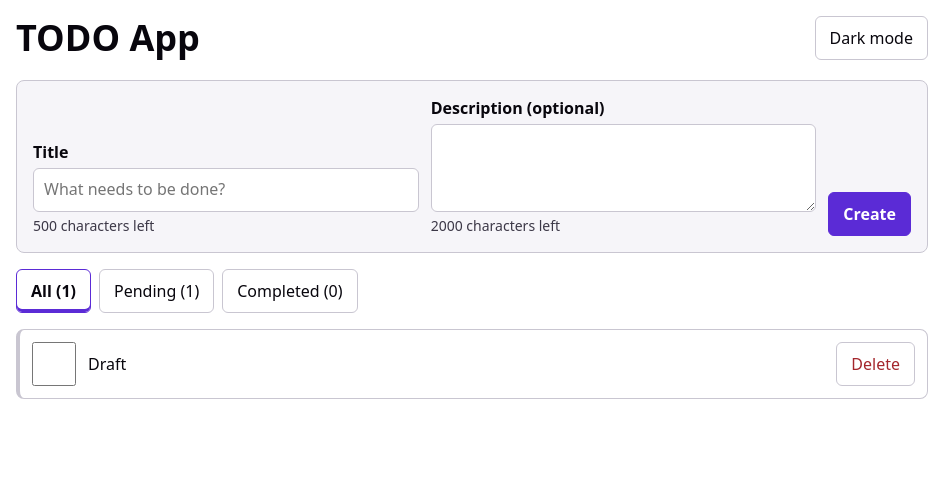
Feature: Task management (acceptance scenarios) › Scenario: Edit task inline (FR6 / AC6) › saves the edited title with Enter and persists it to localStorage
When the user clicks the title, modifies it, and presses Enter
Click the button with test id "task-title" at {"x": 107, "y": 364}, box [88,342,126,386]
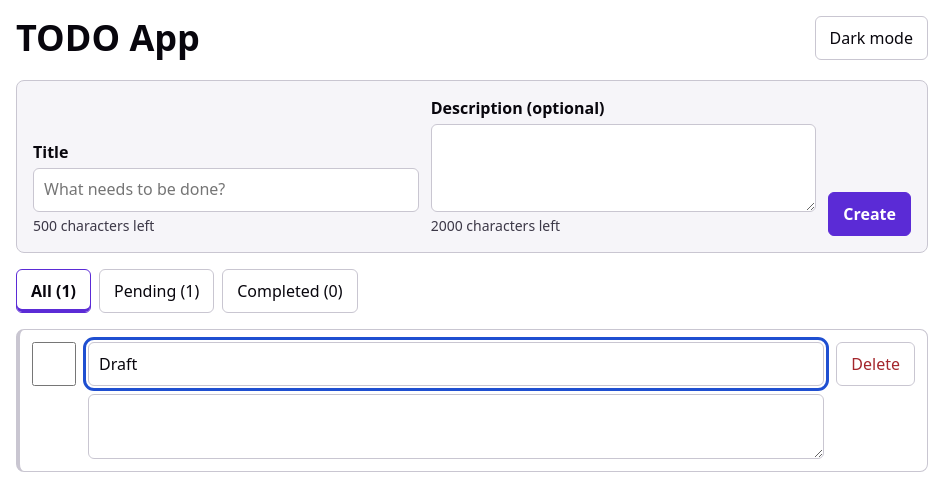
Replace the text in the field with test id "edit-title-input" with "Final version" at {"x": 456, "y": 364}, box [88,342,824,386]
Then press Enter
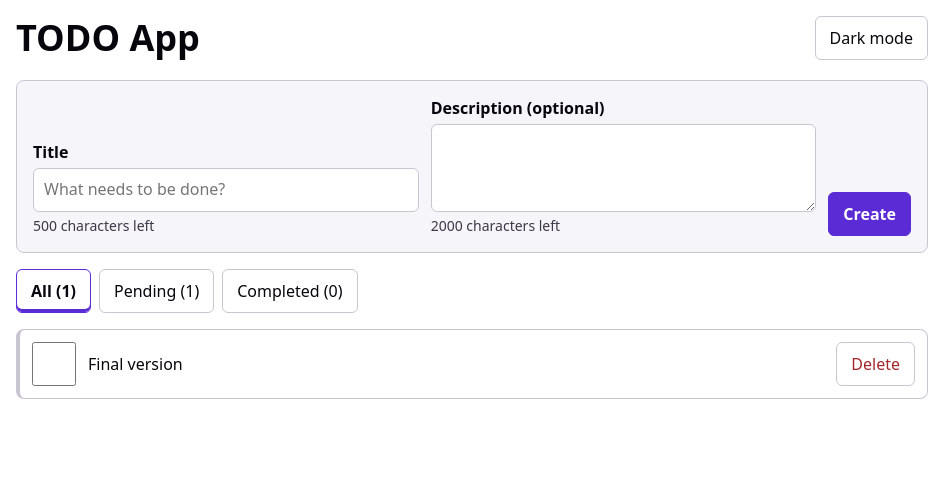
Check: the button with test id "task-title" reads "Final version", box [88,342,183,386]
